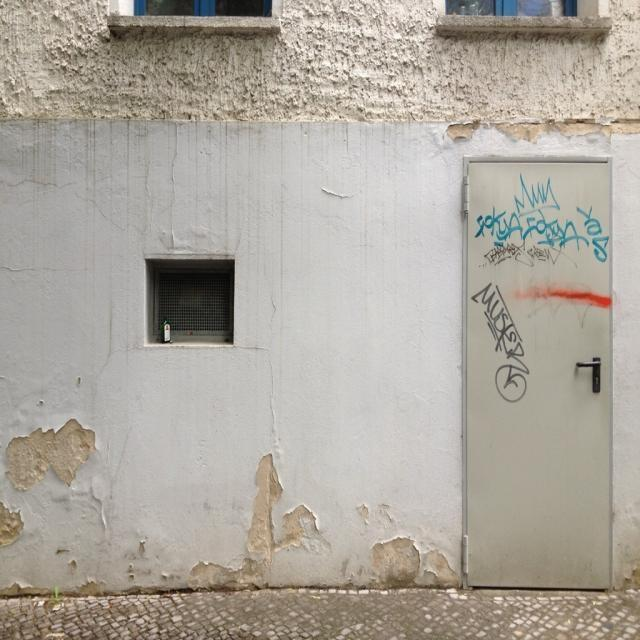door: (462, 155, 618, 594)
